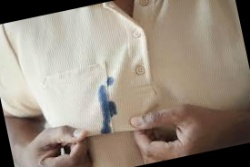ink: (95, 85, 114, 132), (109, 100, 117, 116), (106, 76, 115, 87)
